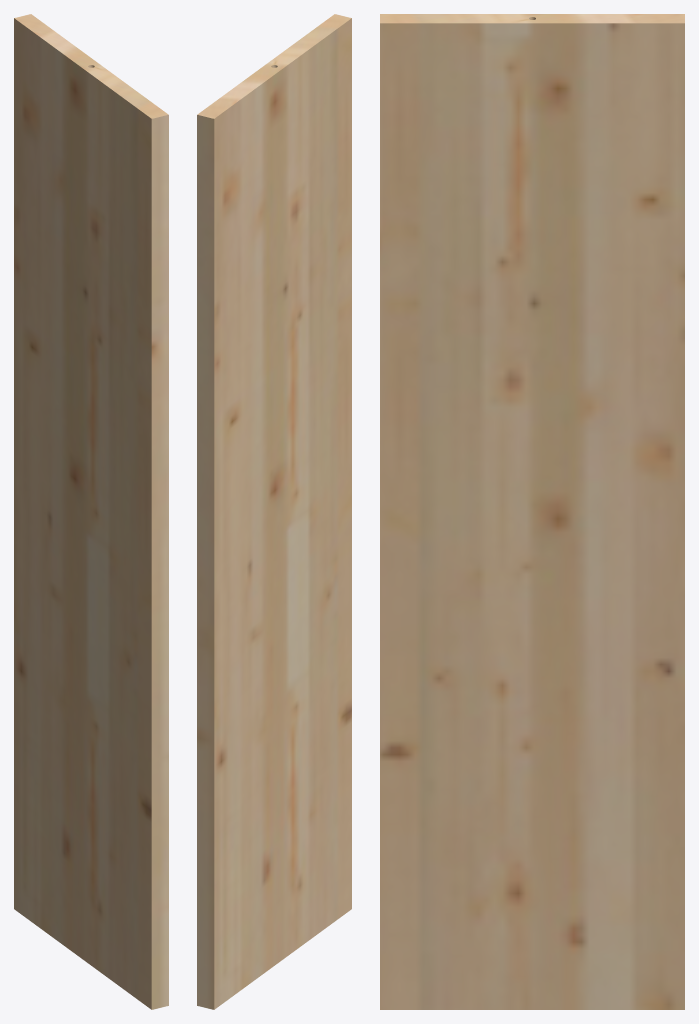
File: BUILDING_OPERABLE_LOUVRE 7-PLY.fbx
3 views of the same model, side by side, from view 1: azimuth 30°, elevation 25°; view 2: azimuth 150°, elevation 25°; view 3: azimuth 270°, elevation 25° (orthographic). The views are drawn at different scales.
Parts seen in each view (by area): view 1: closed; view 2: closed; view 3: closed.
Boxes of the visible parts, x1,y1,x2,y2 form: closed: (14, 14, 168, 1009); closed: (197, 14, 351, 1009); closed: (380, 14, 684, 1009).
Bounding box in the file's own units: 0.25 × 3.5 × 12.5.
Materials: 1 (1 with a texture image).
